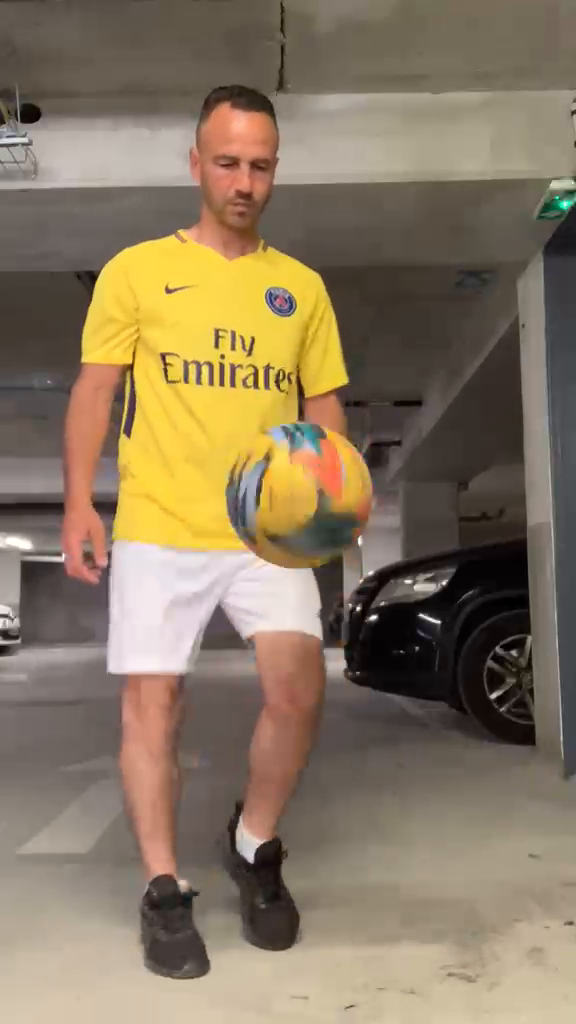ball: (224, 422, 372, 570)
